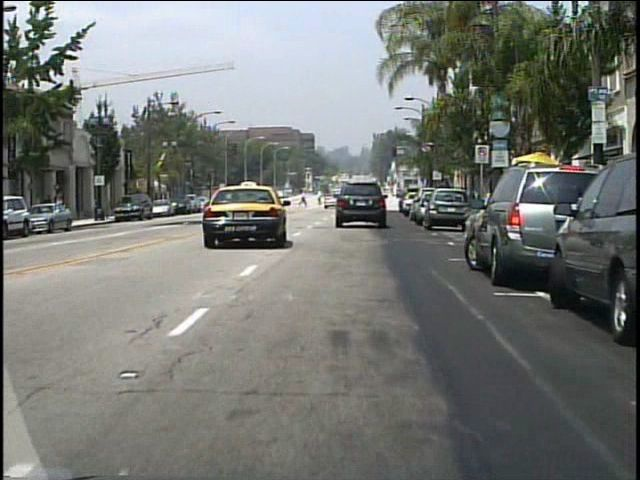person: (43, 192, 58, 225), (57, 193, 68, 223), (316, 189, 325, 208), (300, 191, 308, 209)
